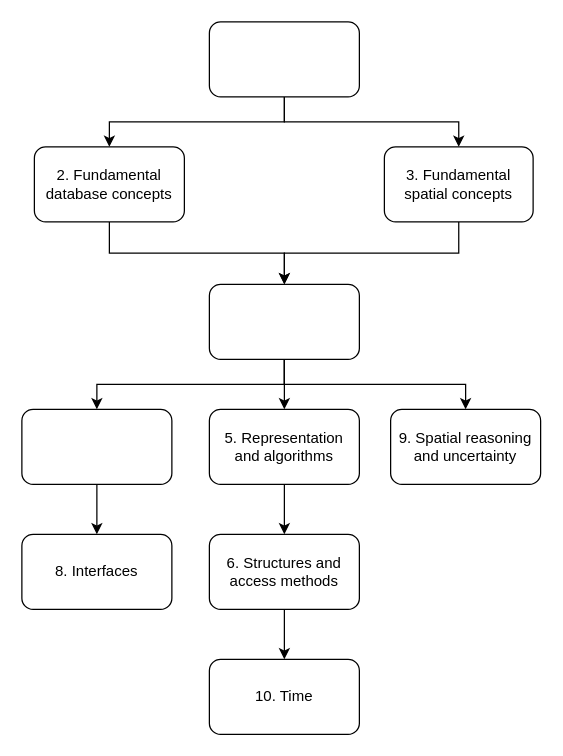
Some shapes in this 563 by 756 pixel diagram are drawn without their labels. The box of each missing label's shape, as (x1, y1, x2, y2) in pixels:
1.Introduction: (208, 21, 359, 97)
4. Models of geospatial information: (208, 283, 359, 359)
7. Architectures: (21, 408, 172, 484)
